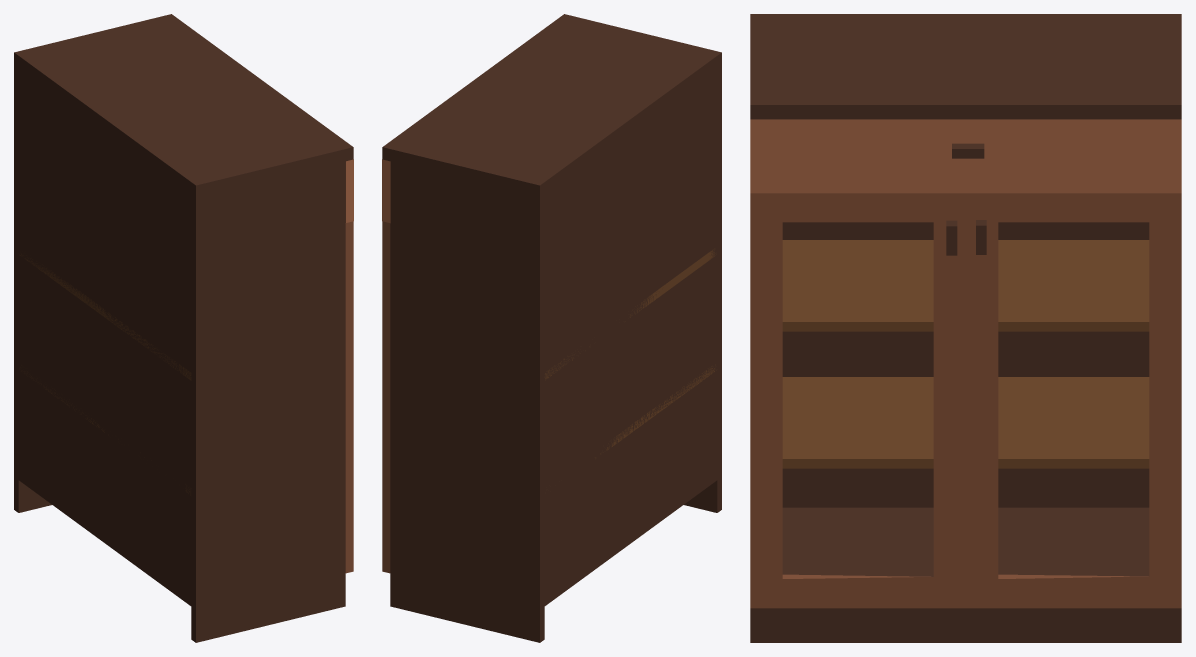
Rendered from wardrobe2.fbx.
The picture shows the model from 3 angles, left to right: view 1: azimuth 30°, elevation 25°; view 2: azimuth 150°, elevation 25°; view 3: azimuth 270°, elevation 25°; orthographic projection. The views are drawn at different scales.
Parts seen in each view (by area): view 1: Object_6; view 2: Object_6; view 3: Object_6.
Boxes of the visible parts, x1,y1,x2,y2 form: Object_6: [14, 14, 353, 642]; Object_6: [382, 14, 721, 642]; Object_6: [750, 14, 1181, 642].
Size of the model in its own units: 42.5 by 111 by 80.
